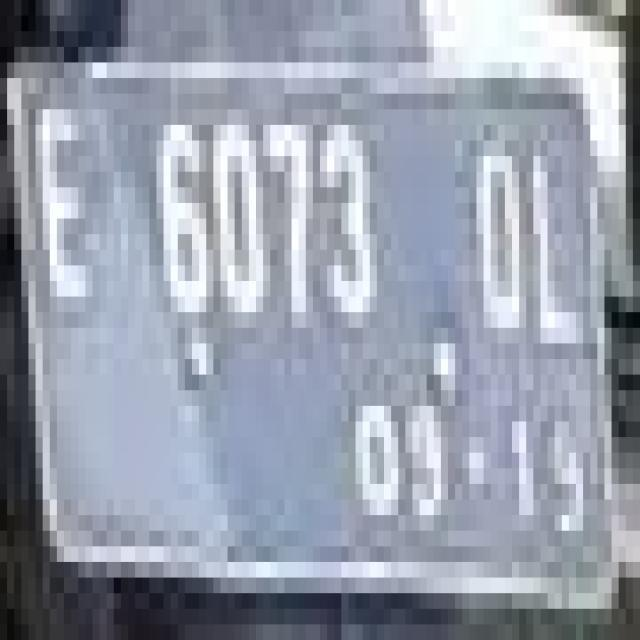0: (202, 103, 277, 336)
3: (314, 91, 383, 348)
6: (148, 106, 218, 331)
7: (260, 98, 325, 353)
E: (26, 91, 110, 334)
L: (523, 147, 596, 372)
Q: (474, 151, 528, 358)
